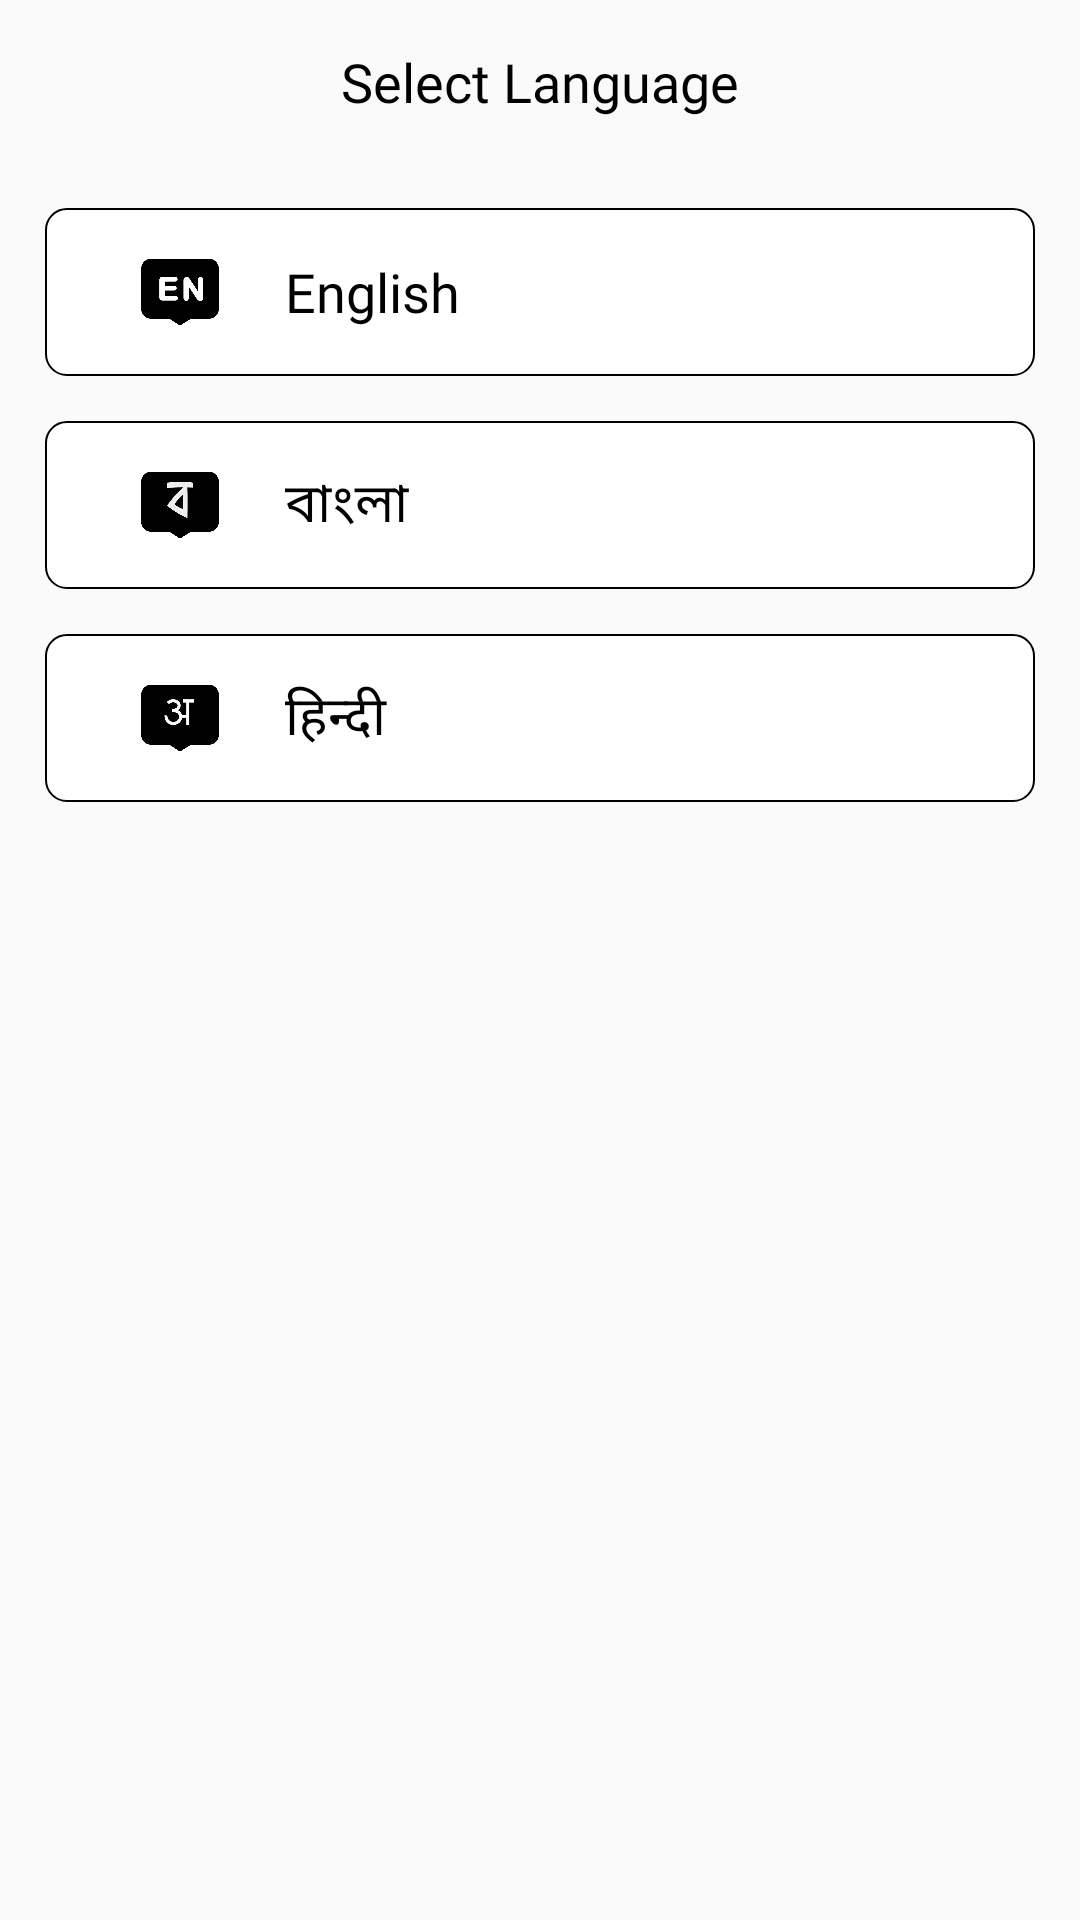

Screen size 1080x1920. Icon name, then its center in pixels as [x,y]:
bangla: [180,505]
hindi: [180,718]
